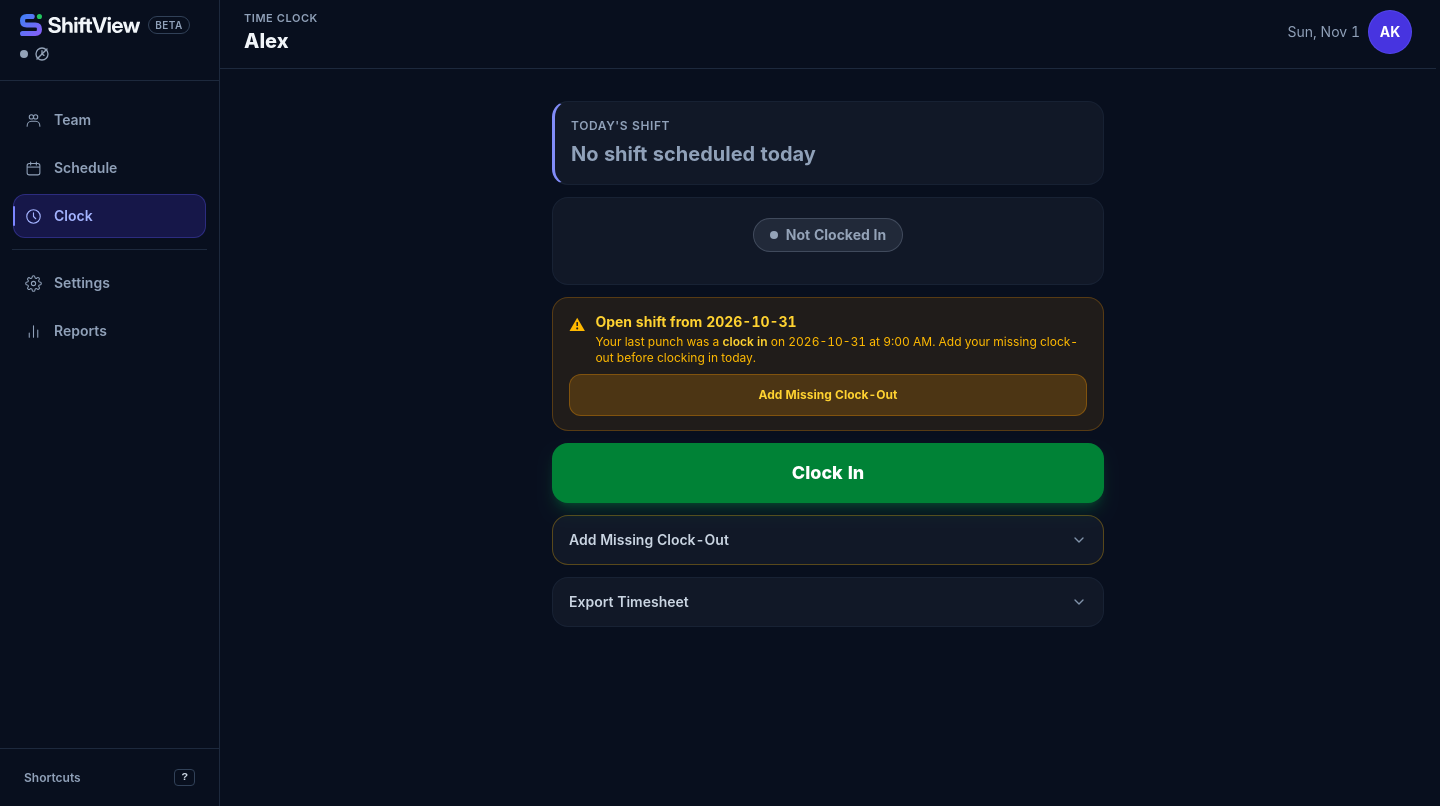
Test: Clock — punch corrections need manager approval › sends a missed clock-out for approval and shows it as pending
// The missed-punch banner's button (the form toggle carries the same label).
Click the button "Add Missing Clock-Out" below "Your last punch was a": (828, 395) top-left (569, 374), bottom-right (1087, 416)
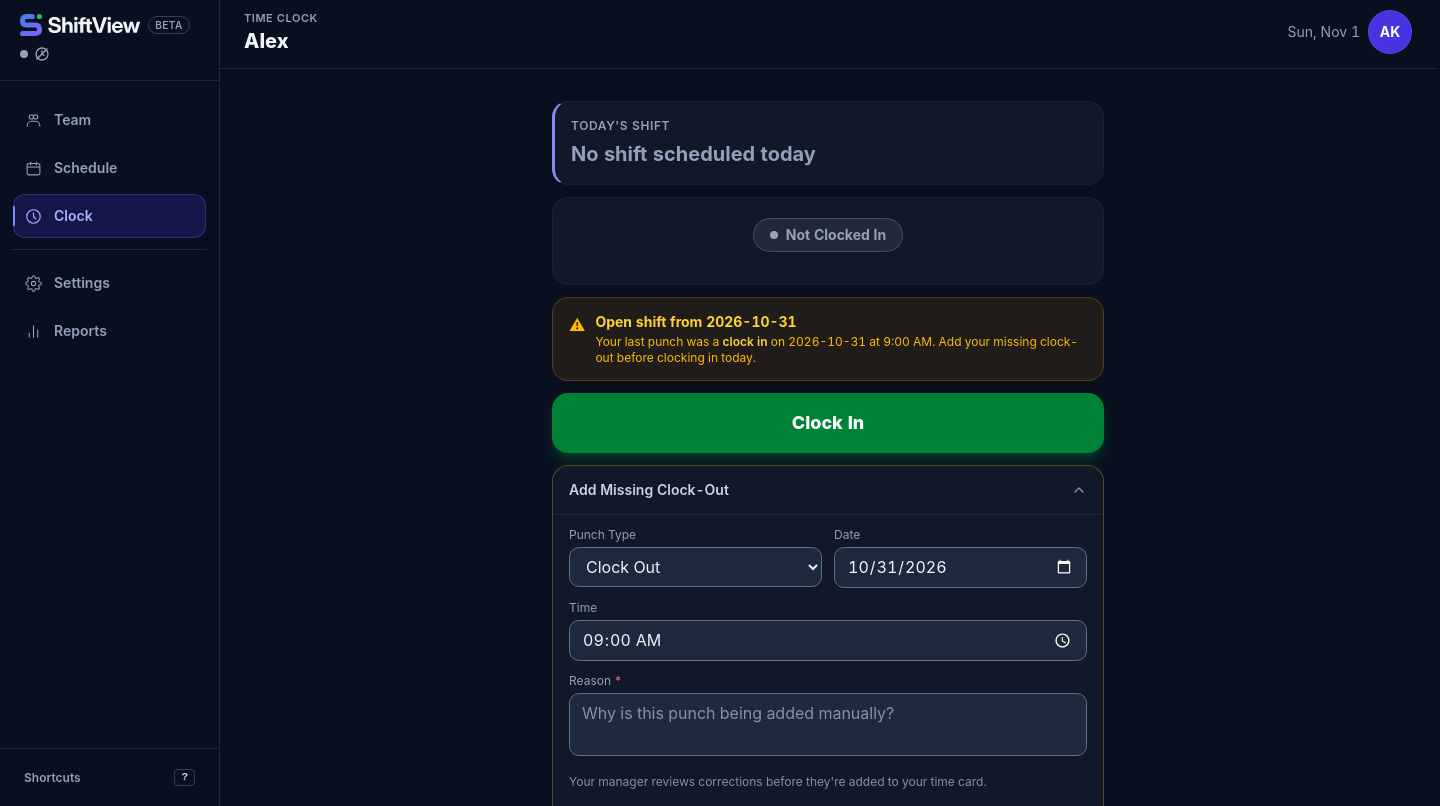
Result: the text "Your manager reviews corrections" is shown at top-left (569, 774), bottom-right (987, 789)
Replace the text in the time field labelled "Time" with "17:00": (828, 640) top-left (569, 620), bottom-right (1087, 661)
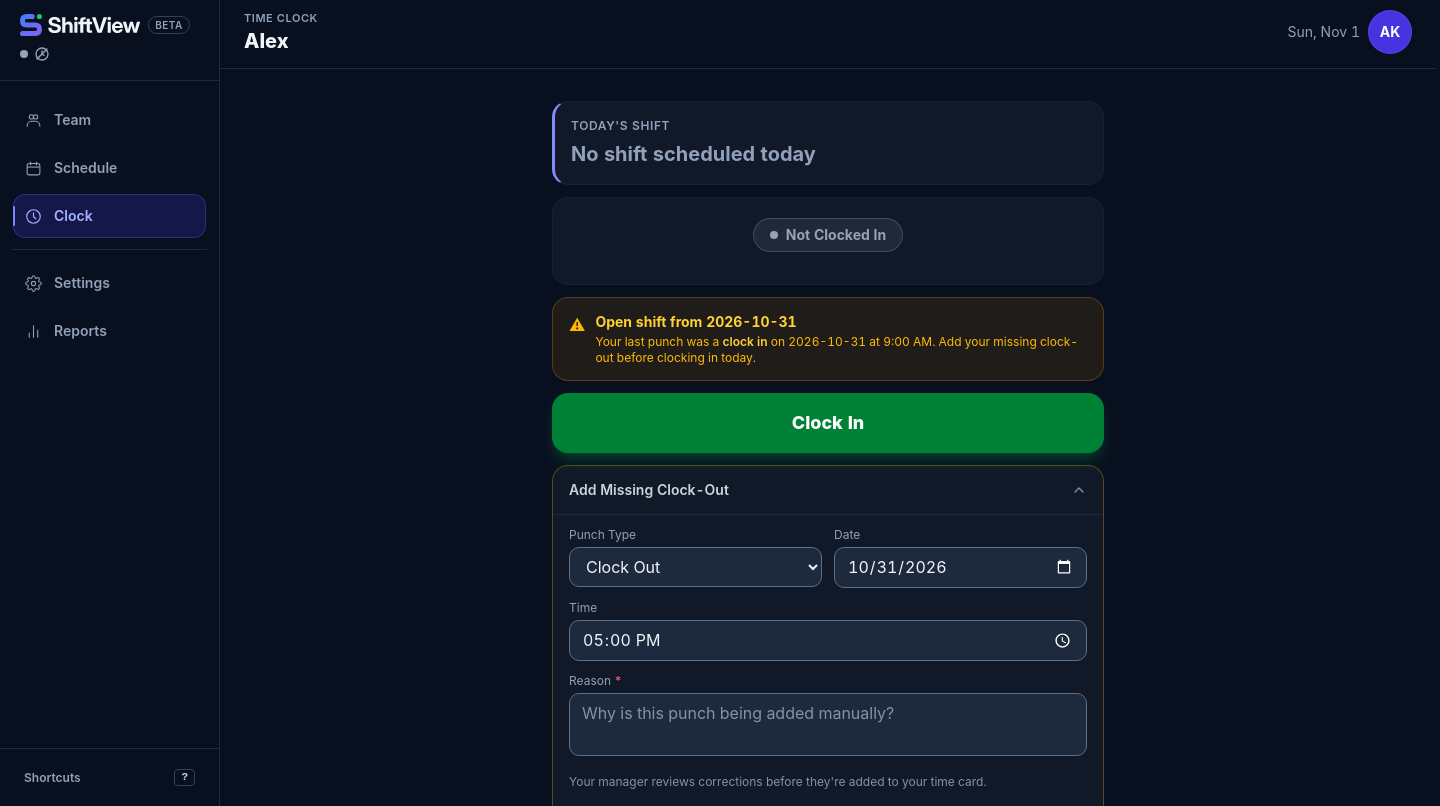
In the text box labelled "Reason *": (828, 725) top-left (569, 693), bottom-right (1087, 756), type "Forgot"
(page scrolled)
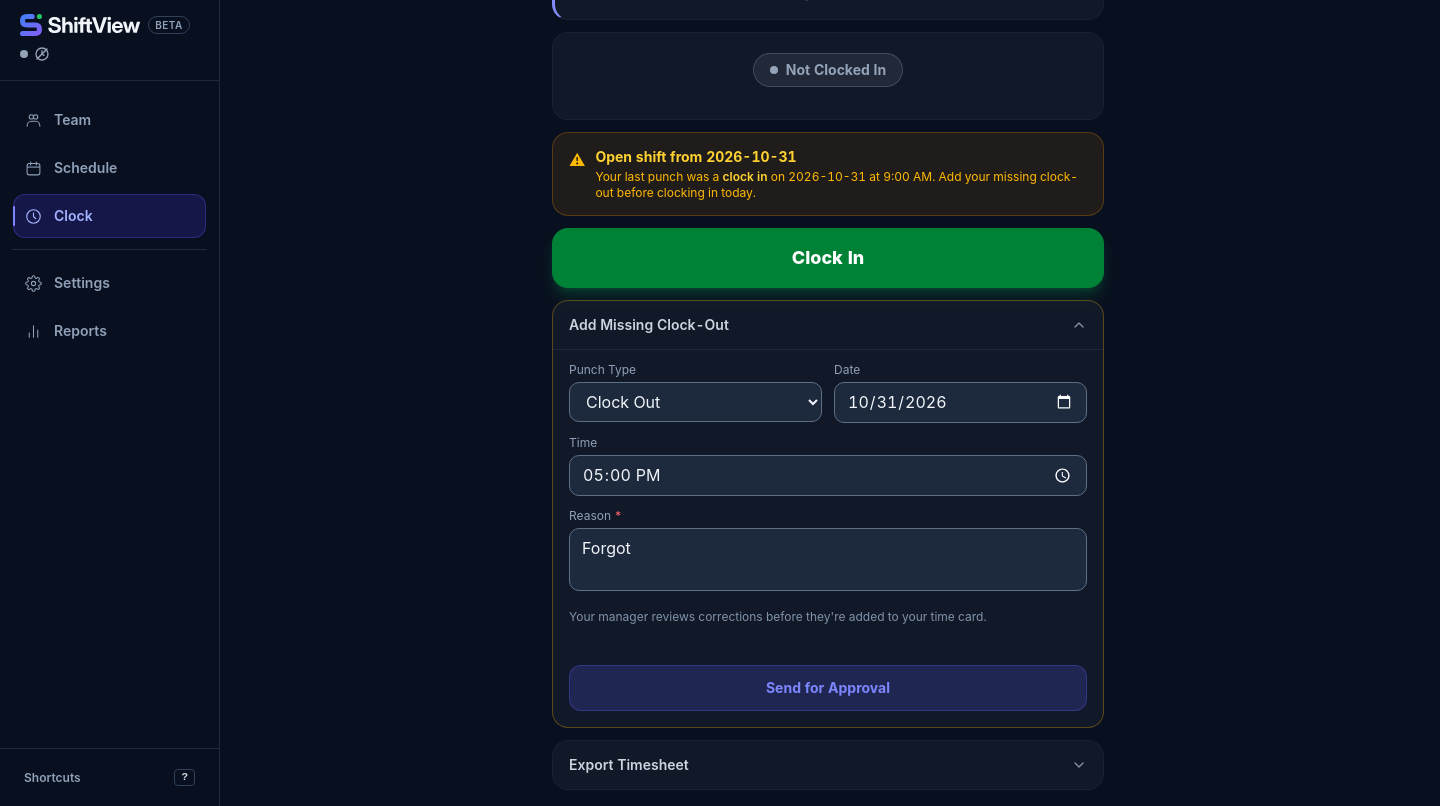
Click the button "Send for Approval": (828, 688) top-left (569, 665), bottom-right (1087, 711)
(page scrolled)
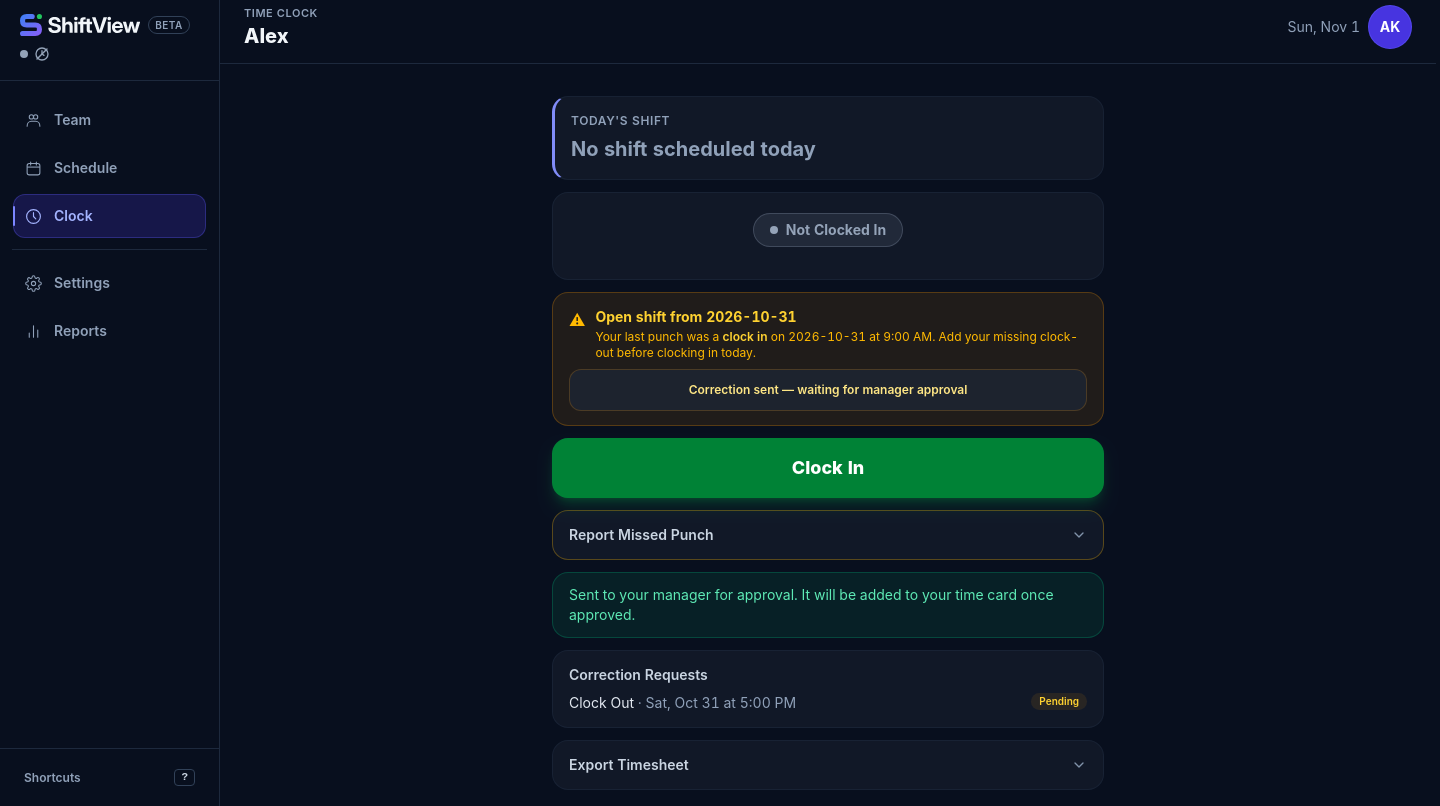
Result: the text "Sent to your manager for approval" is shown at top-left (569, 586), bottom-right (1054, 623)
Result: the text "Correction sent — waiting for manager approval" is shown at top-left (569, 369), bottom-right (1087, 411)
Result: no buttons "Add Missing Clock-Out" are shown
